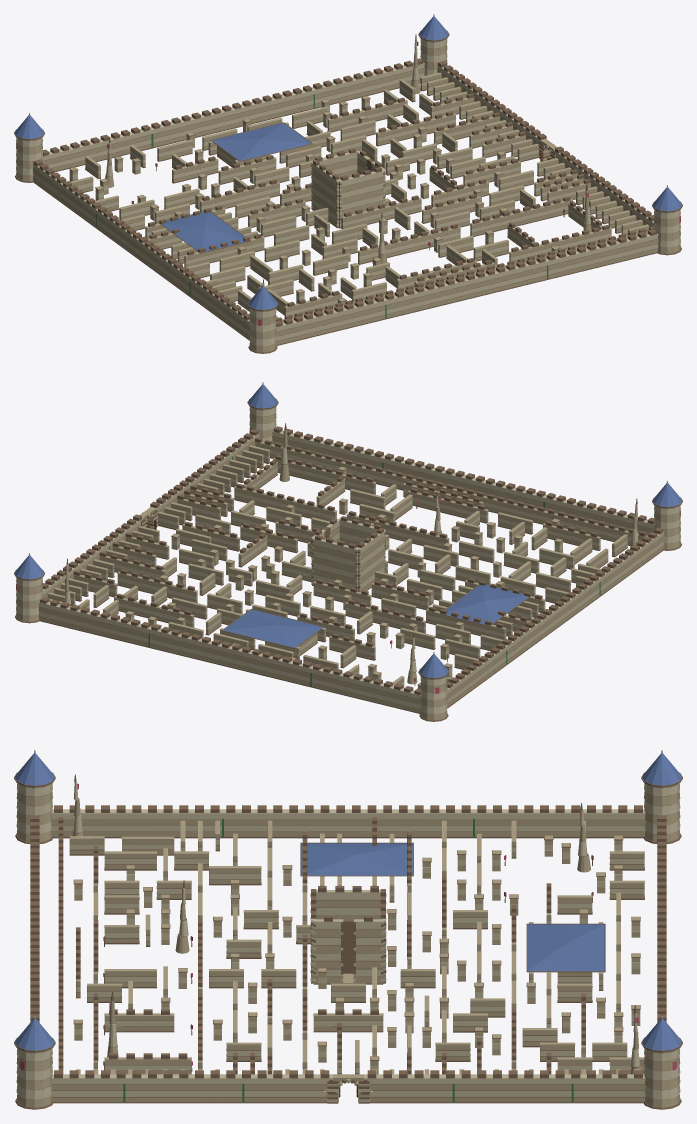
Rendered from castle_purified.glb.
The picture shows the model from 3 angles, top to bottom: view 1: azimuth 30°, elevation 25°; view 2: azimuth 150°, elevation 25°; view 3: azimuth 270°, elevation 25°; orthographic projection. The views are drawn at different scales.
Parts seen in each view (by area): view 1: castle_purified_part_0; view 2: castle_purified_part_0; view 3: castle_purified_part_0.
Part boxes in pixels (bbox=[...]): castle_purified_part_0: bbox=[14, 14, 682, 353]; castle_purified_part_0: bbox=[14, 382, 682, 721]; castle_purified_part_0: bbox=[14, 750, 682, 1109].
Bounding box in the file's own units: 192 × 27.28 × 192.
